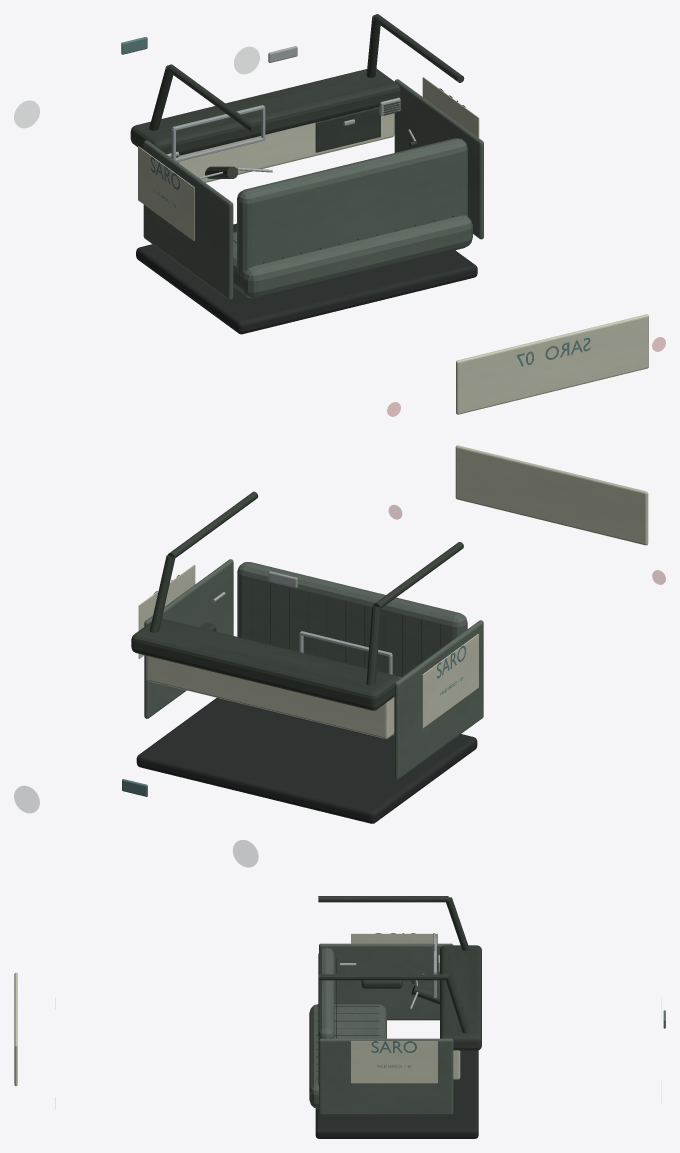
Rendered from Saro07_Addons.glb.
3 renders of one model, top to bottom at view 1: azimuth 30°, elevation 25°; view 2: azimuth 150°, elevation 25°; view 3: azimuth 270°, elevation 25°, orthographic. The views are drawn at different scales.
Parts seen in each view (by area): view 1: SM_Saro07_Cabin, SM_Saro07_Branding, SM_Saro07_HeadLens; view 2: SM_Saro07_Cabin, SM_Saro07_Branding, SM_Saro07_HeadLens; view 3: SM_Saro07_Cabin, SM_Saro07_Branding.
Boxes of the visible parts, x1,y1,x2,y2 form: SM_Saro07_Cabin: (130,14,483,334); SM_Saro07_Branding: (121,37,648,414); SM_Saro07_HeadLens: (14,47,259,127); SM_Saro07_Cabin: (131,491,483,823); SM_Saro07_Branding: (122,445,648,796); SM_Saro07_HeadLens: (14,786,258,867); SM_Saro07_Cabin: (309,896,481,1138); SM_Saro07_Branding: (14,933,665,1085).
Bounding box in the file's own units: 1.89 × 1.29 × 4.8.
8 materials, 3 textured.
